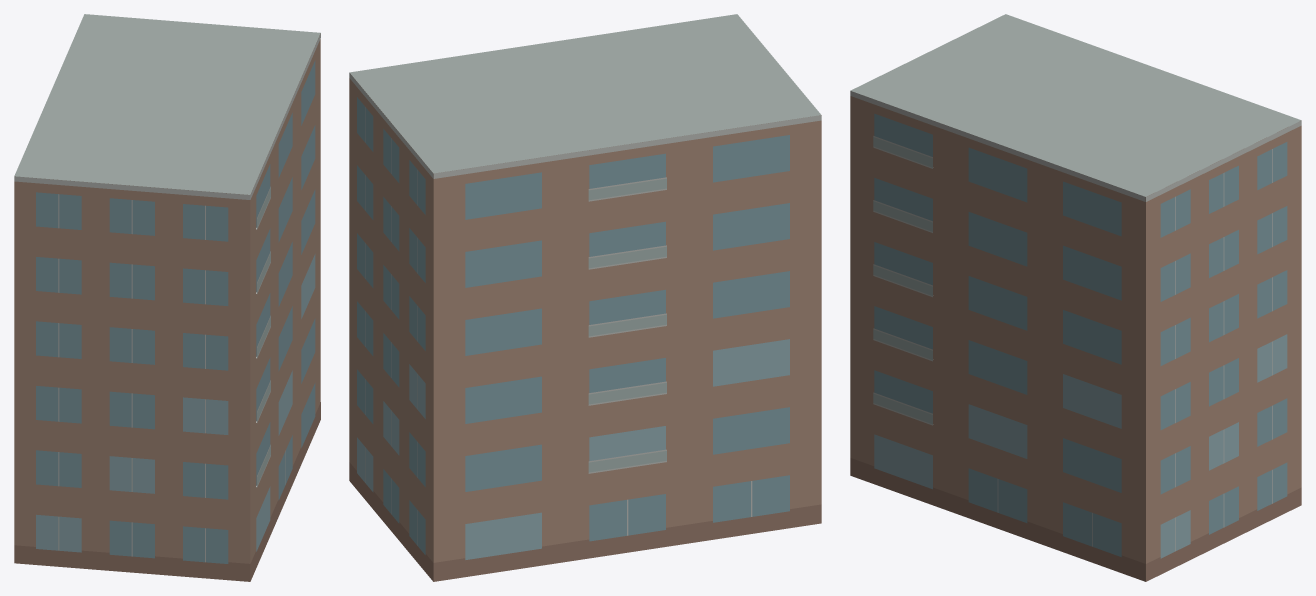
The model's file is survey-upis-32567646.glb.
The picture shows the model from 3 angles, left to right: view 1: azimuth 30°, elevation 25°; view 2: azimuth 150°, elevation 25°; view 3: azimuth 270°, elevation 25°; orthographic projection. The views are drawn at different scales.
Visible parts, largest first — view 1: survey-upis-32567646.tmp; view 2: survey-upis-32567646.tmp; view 3: survey-upis-32567646.tmp.
Part boxes in pixels (<box>): survey-upis-32567646.tmp: <box>14,14,320,581</box>; survey-upis-32567646.tmp: <box>349,14,821,581</box>; survey-upis-32567646.tmp: <box>850,14,1301,581</box>.
Size of the model in its own units: 18.67 by 18.3 by 19.46.
